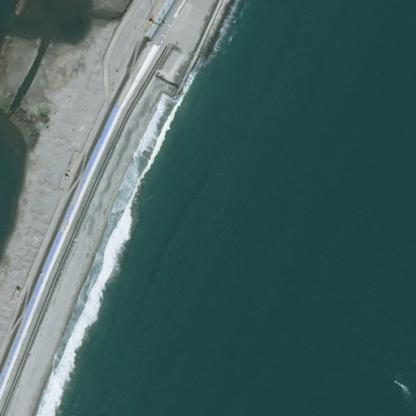ship: (393, 379, 402, 386)
